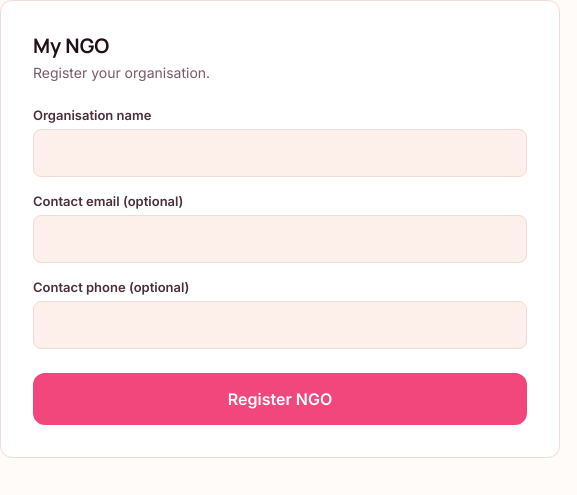
Test case: MyNgoForm › rejects an invalid contact email but allows it blank
Type "Flood Relief Karachi" into the field labelled "Organisation name" at (280, 153), box [33,129,527,177]
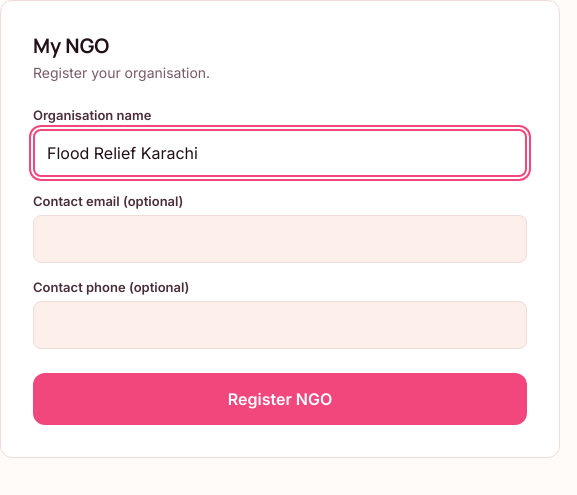
Type "not-an-email" into the field labelled "Contact email (optional)" at (280, 239), box [33,215,527,263]
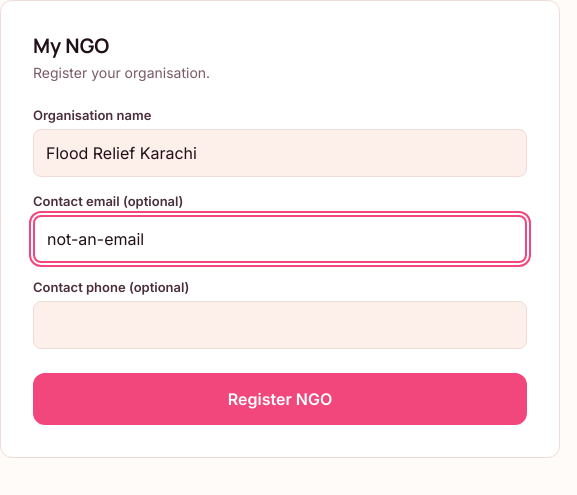
Click the button named "Register NGO" at (280, 399), box [33,373,527,425]
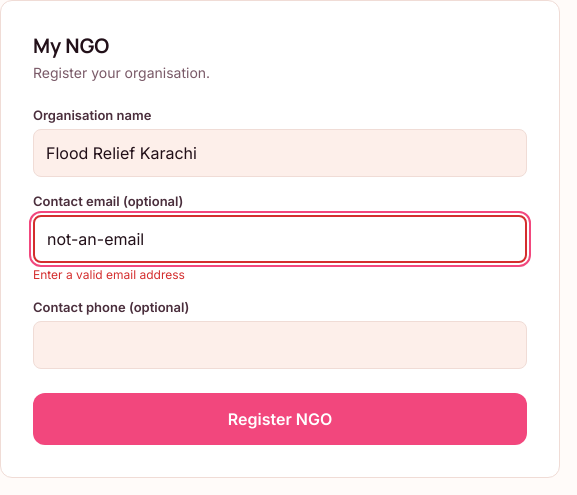
Expected: the text "Enter a valid email address" is shown, [33,267,185,282]
